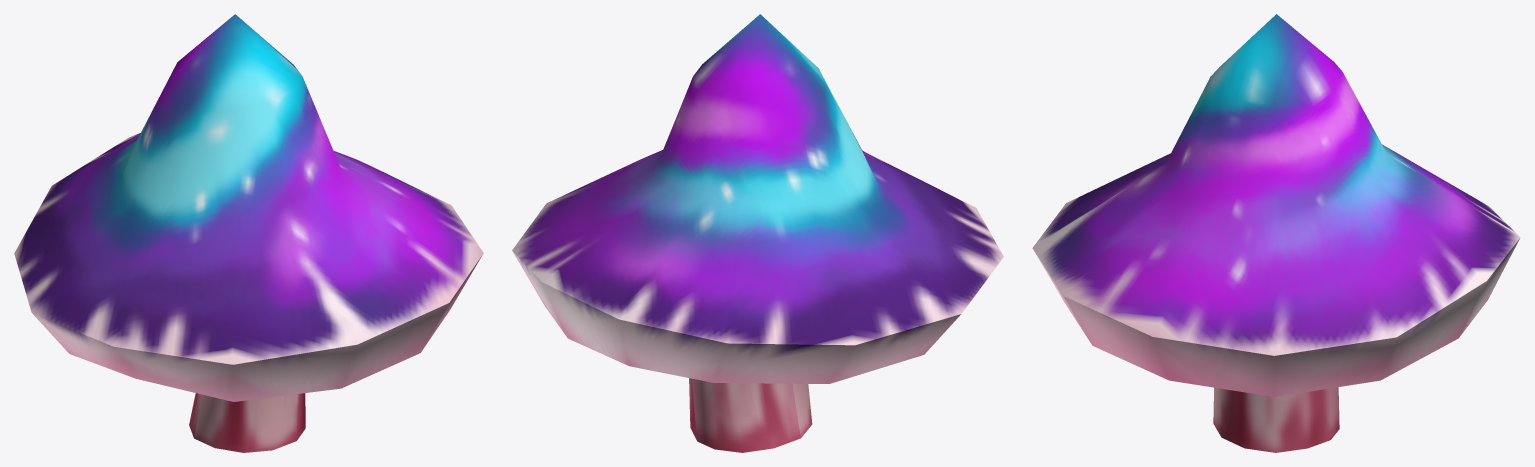
Rendered from SM_ENV_PLANT_shroom_v3_02.fbx.
The picture shows the model from 3 angles, left to right: view 1: azimuth 30°, elevation 25°; view 2: azimuth 150°, elevation 25°; view 3: azimuth 270°, elevation 25°; orthographic projection.
Parts seen in each view (by area): view 1: SM_ENV_PLANT_shroom_v3_02; view 2: SM_ENV_PLANT_shroom_v3_02; view 3: SM_ENV_PLANT_shroom_v3_02.
Part boxes in pixels (<box>): SM_ENV_PLANT_shroom_v3_02: <box>14,14,483,452</box>; SM_ENV_PLANT_shroom_v3_02: <box>512,14,1003,452</box>; SM_ENV_PLANT_shroom_v3_02: <box>1032,14,1520,452</box>.
Bounding box in the file's own units: 68.39 × 65.59 × 70.44.
Materials: 1 (1 with a texture image).
